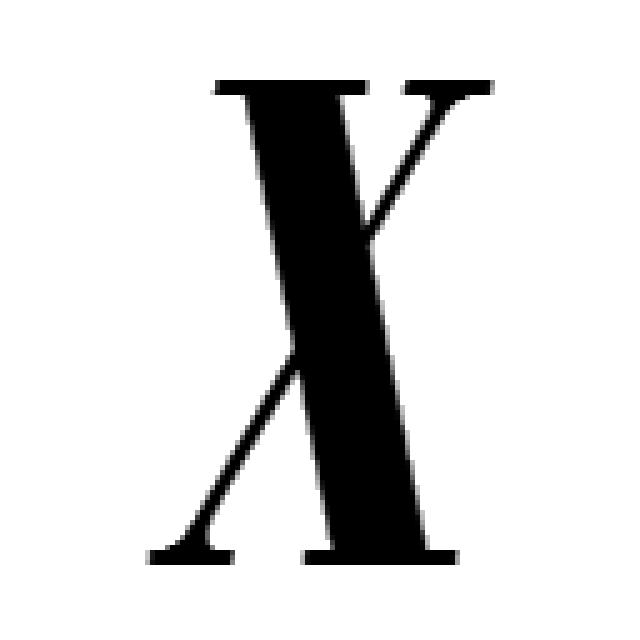X: (140, 70, 495, 570)
